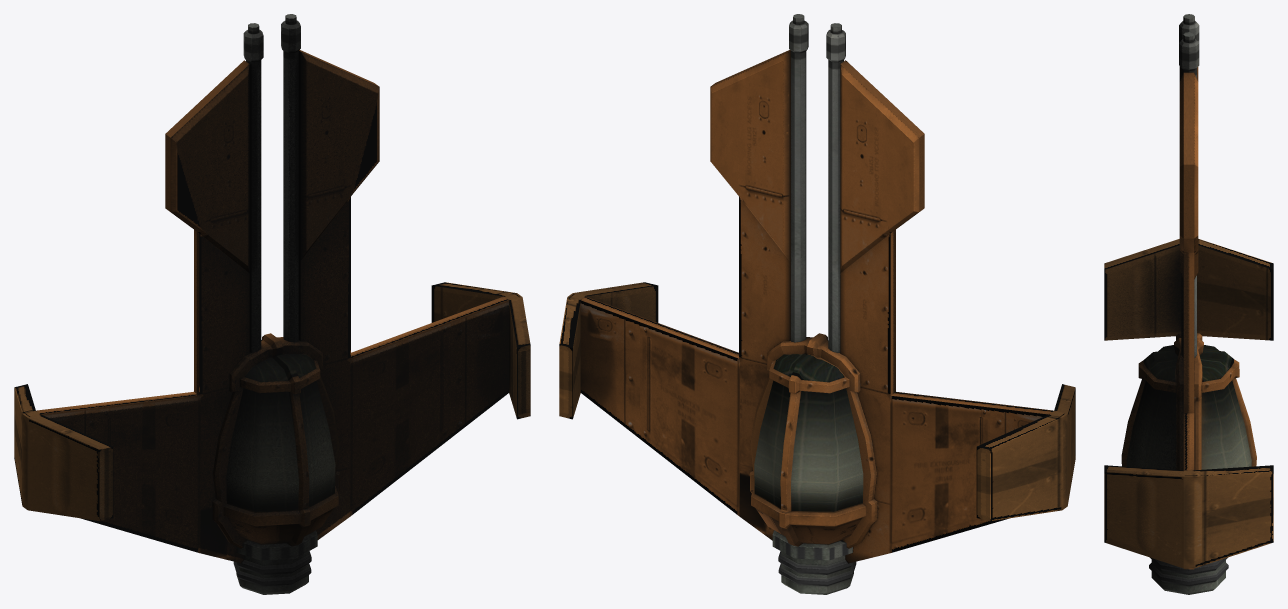
The model's file is playerShip.fbx.
3 views of the same model, side by side, from view 1: azimuth 30°, elevation 25°; view 2: azimuth 150°, elevation 25°; view 3: azimuth 270°, elevation 25° (orthographic).
Parts seen in each view (by area): view 1: playerShip; view 2: playerShip; view 3: playerShip.
Part boxes in pixels (left/top/right/bottom): playerShip: left=14, top=14, right=530, bottom=594; playerShip: left=559, top=14, right=1075, bottom=594; playerShip: left=1104, top=14, right=1273, bottom=594.
Bounding box in the file's own units: 0.9169 × 0.9914 × 0.2745.
